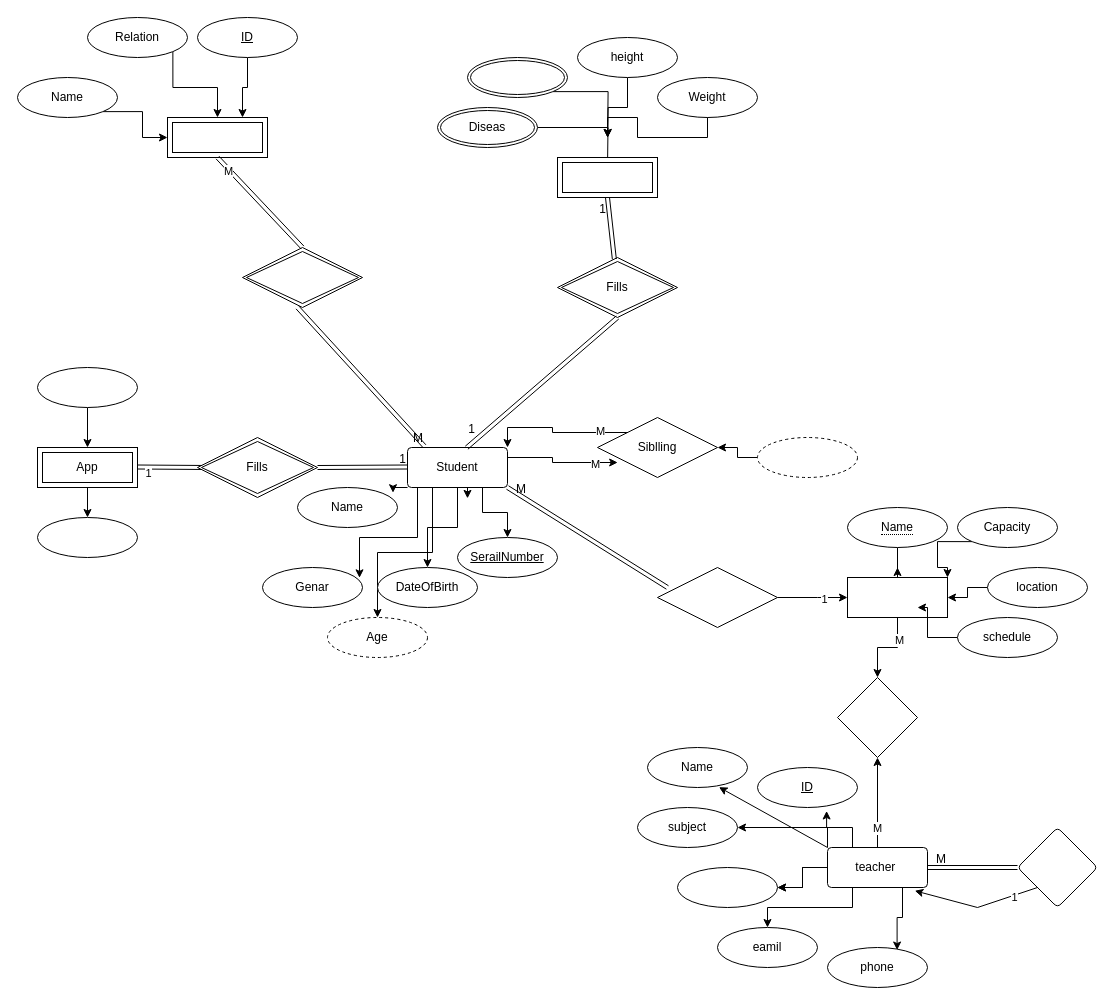
The diagram is 1115 pixels wide and 1005 high, and some of its shapes have lost their labels. Each missing label, with the centre of its shape:
"Allergy" goes at pixel 517 77.
"Attends" goes at pixel 877 717.
"Belongs To" goes at pixel 717 597.
"Class" goes at pixel 897 597.
"Discount" goes at pixel 807 457.
"Division" goes at pixel 87 537.
"Has" goes at pixel 302 277.
"MedicalReport" goes at pixel 607 177.
"Parent" goes at pixel 217 137.
"Salary" goes at pixel 727 887.
"SerialNumber" goes at pixel 87 387.
"SuperVioser" goes at pixel 1057 867.
